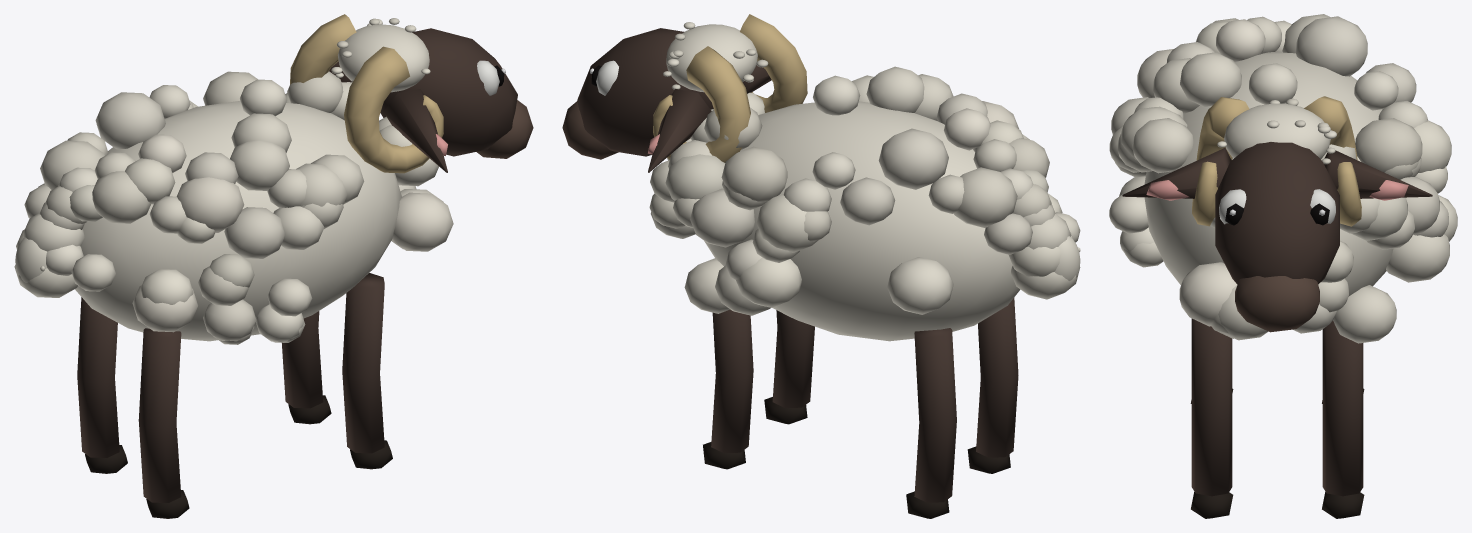
File: ram.glb
3 renders of one model, left to right at view 1: azimuth 30°, elevation 25°; view 2: azimuth 150°, elevation 25°; view 3: azimuth 270°, elevation 25°, orthographic. The views are drawn at different scales.
Parts seen in each view (by area): view 1: ram.body, ram.head, ram.tail; view 2: ram.body, ram.head, ram.tail; view 3: ram.body, ram.head.
Part boxes in pixels (x1=…): ram.body: x1=14, y1=71, x2=453, y2=518; ram.head: x1=290, y1=14, x2=533, y2=173; ram.tail: x1=15, y1=237, x2=47, y2=282; ram.body: x1=649, y1=66, x2=1080, y2=518; ram.head: x1=562, y1=14, x2=807, y2=172; ram.tail: x1=1054, y1=236, x2=1080, y2=280; ram.body: x1=1109, y1=14, x2=1457, y2=518; ram.head: x1=1122, y1=96, x2=1432, y2=332.
Size of the model in its own units: 1.3 by 0.998 by 0.7247.
